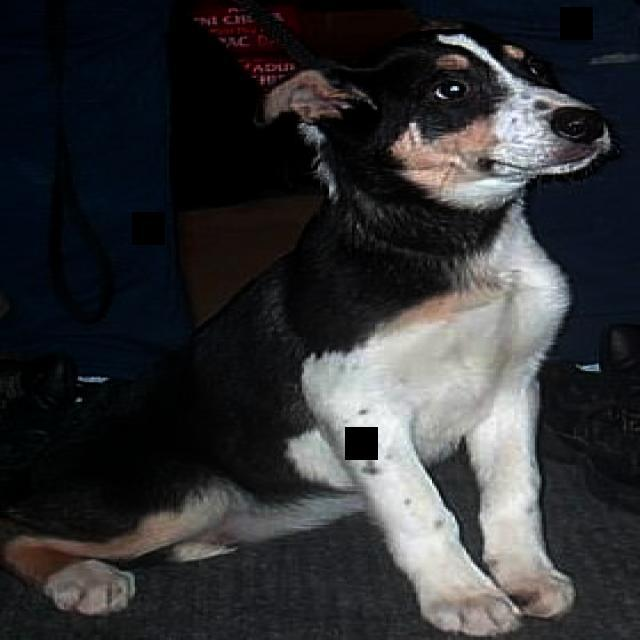puppy-dog: (1, 20, 612, 627)
